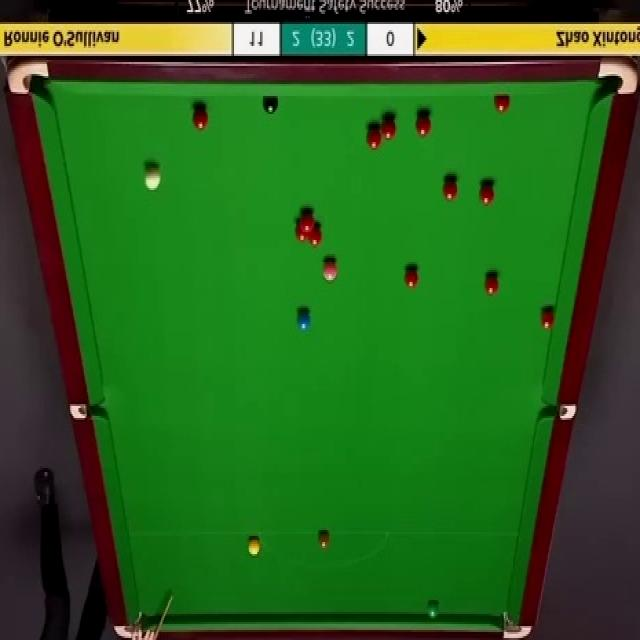black-ball: (262, 95, 280, 117)
blue-ball: (295, 307, 311, 332)
brown-ball: (316, 529, 330, 552)
green-ball: (425, 600, 440, 619)
pink-ball: (323, 258, 338, 286)
red-ball: (380, 112, 398, 143), (403, 262, 420, 291), (414, 111, 431, 137), (477, 182, 494, 207), (366, 125, 382, 151), (442, 177, 458, 201), (484, 272, 499, 297), (194, 106, 208, 132), (540, 308, 555, 331), (308, 222, 322, 246), (494, 94, 510, 114), (301, 210, 314, 230), (295, 222, 308, 242)
white-ball: (143, 165, 161, 192)
yellow-ball: (246, 537, 260, 557)
